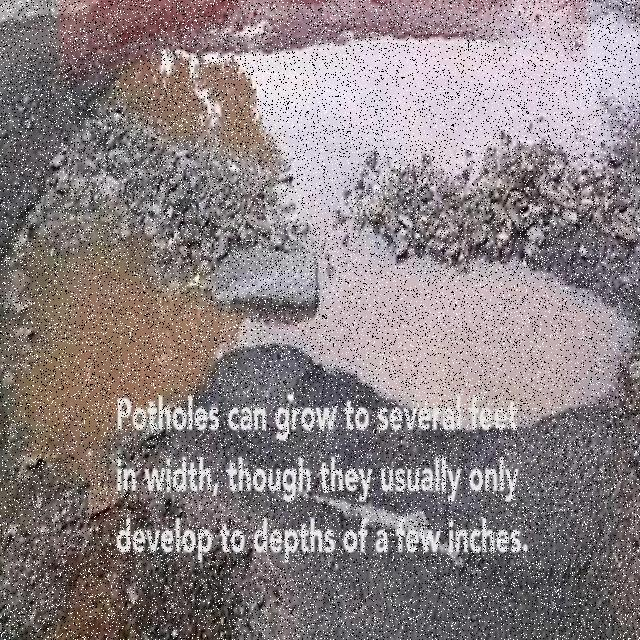pothole: (0, 23, 640, 488)
